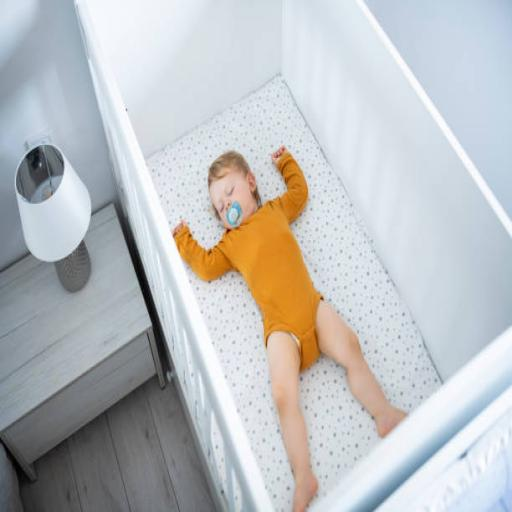baby: (173, 147, 405, 510)
crib: (76, 0, 511, 510)
